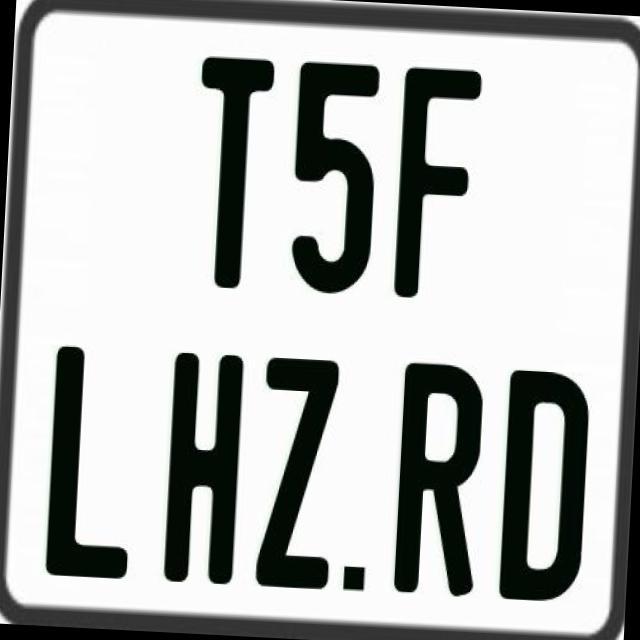5: (284, 59, 382, 294)
D: (498, 366, 596, 610)
F: (392, 63, 486, 304)
H: (160, 348, 242, 582)
L: (44, 343, 138, 582)
R: (391, 362, 483, 606)
T: (187, 52, 273, 286)
Z: (254, 356, 342, 590)
